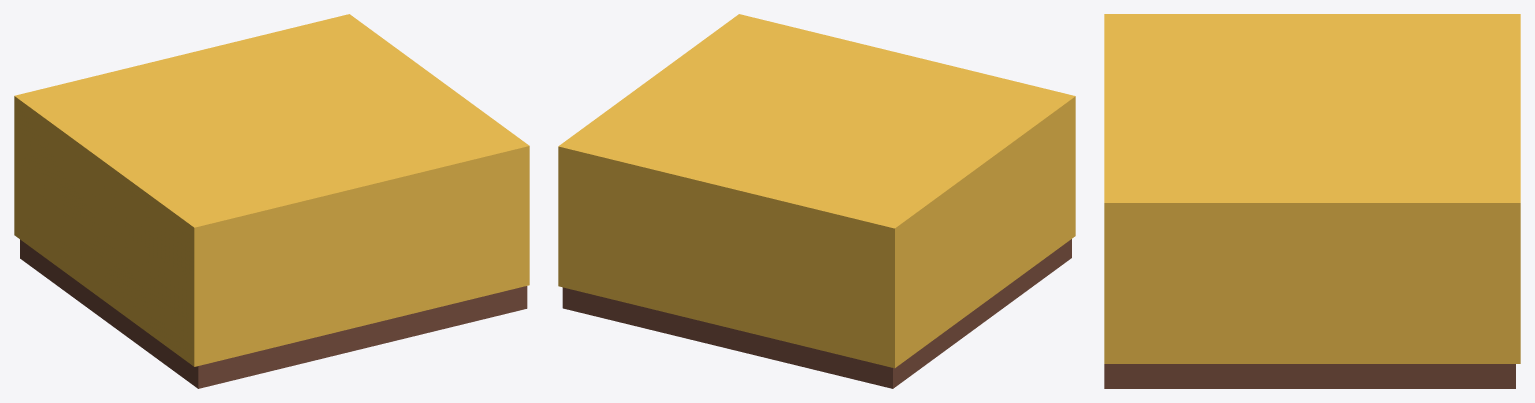
The model's file is Warming 2.fbx.
The picture shows the model from 3 angles, left to right: view 1: azimuth 30°, elevation 25°; view 2: azimuth 150°, elevation 25°; view 3: azimuth 270°, elevation 25°; orthographic projection. The views are drawn at different scales.
Parts seen in each view (by area): view 1: Warming 2; view 2: Warming 2; view 3: Warming 2.
Part boxes in pixels (x1,y1,x2,y2): Warming 2: (14, 14, 529, 388); Warming 2: (558, 14, 1075, 388); Warming 2: (1104, 14, 1520, 388).
Bounding box in the file's own units: 1601 × 740 × 1490.
